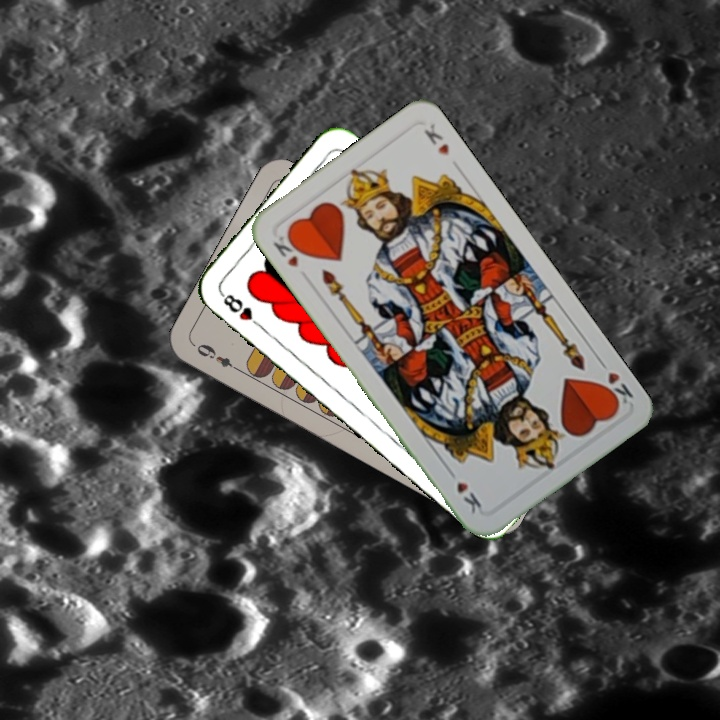E9: (190, 339, 244, 375)
H8: (216, 288, 266, 332)
HK: (594, 354, 636, 412), (269, 231, 301, 271)
